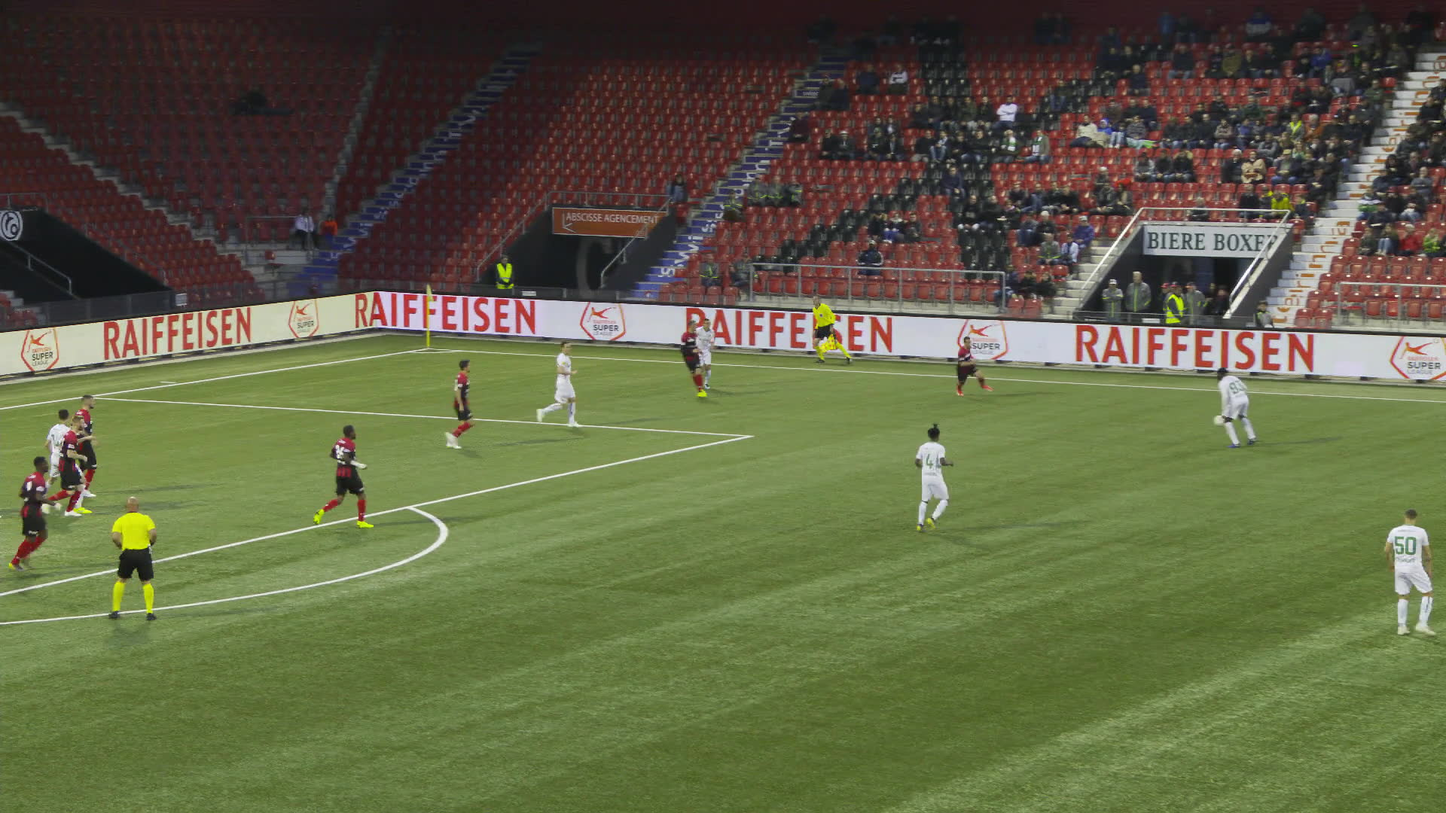ball: (1213, 415, 1225, 426)
player: (1383, 508, 1435, 637), (313, 425, 374, 527), (8, 456, 55, 571), (44, 409, 92, 513), (41, 416, 87, 516), (914, 422, 953, 533), (535, 340, 583, 428), (1216, 367, 1257, 447), (444, 359, 475, 449), (70, 394, 97, 496), (955, 336, 992, 396), (680, 320, 707, 397), (696, 318, 714, 388)
referee: (108, 496, 157, 620), (812, 293, 853, 364)
